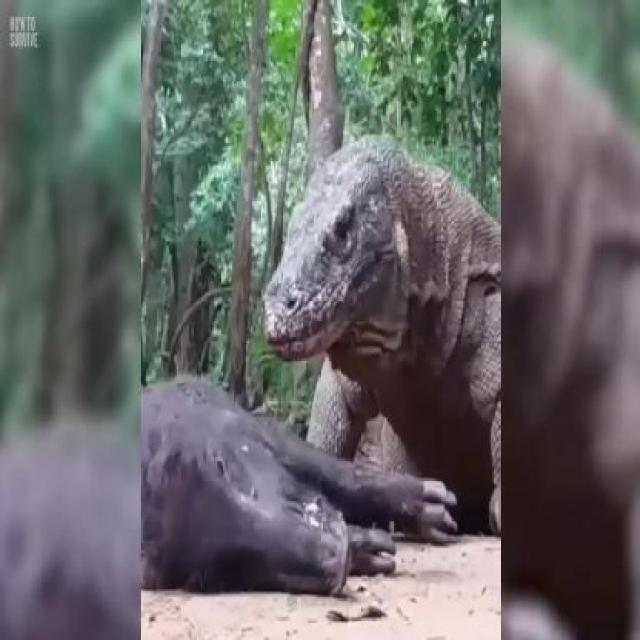Boar: (116, 338, 447, 611)
